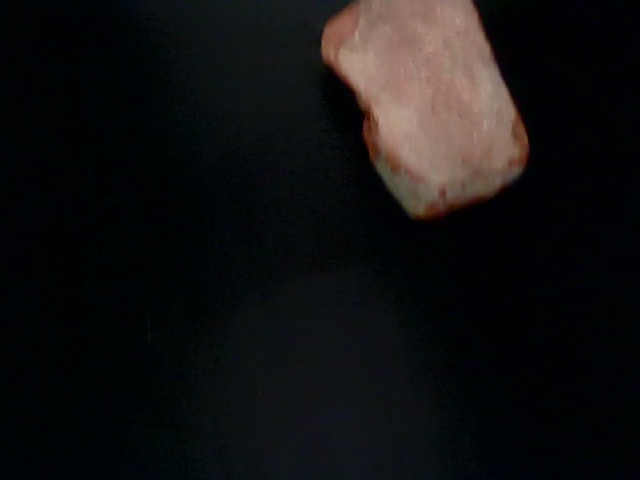KHSLJ: (11, 1, 322, 276)
